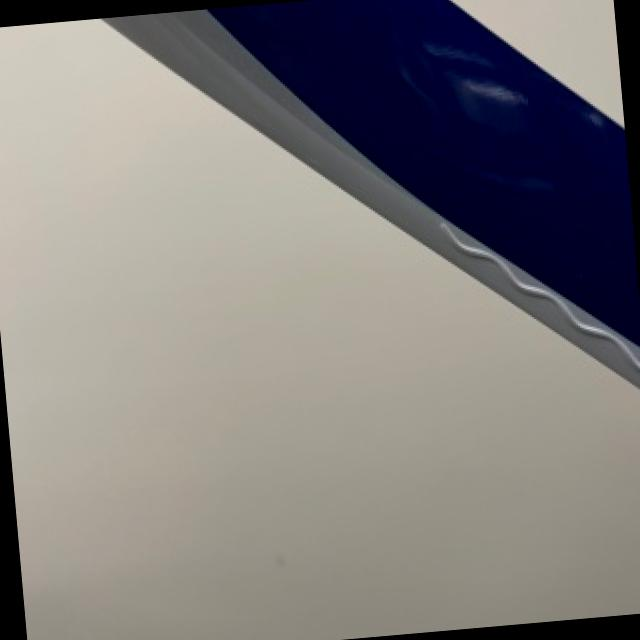healthy: (107, 0, 640, 383)
